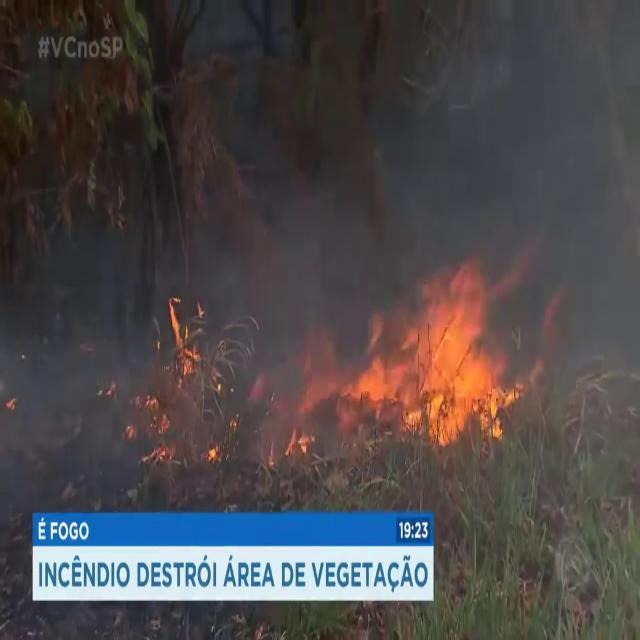Fire: (285, 254, 527, 452)
Smoke: (180, 1, 639, 386)
